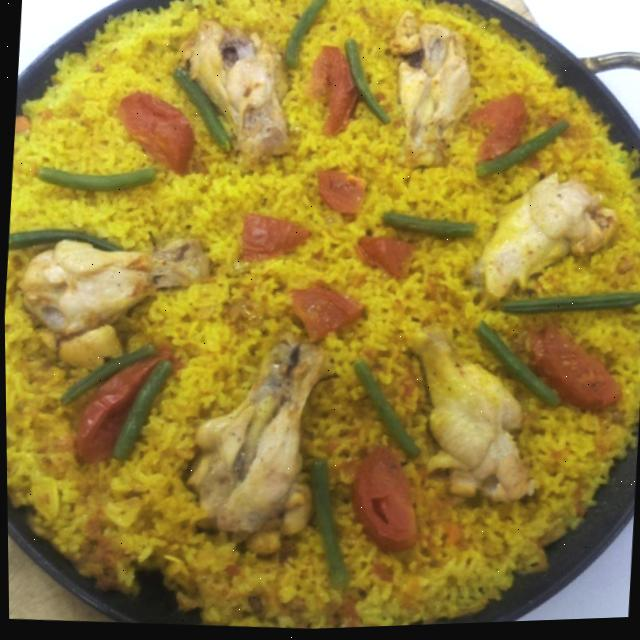熟制海鲜: (128, 165, 286, 530)
